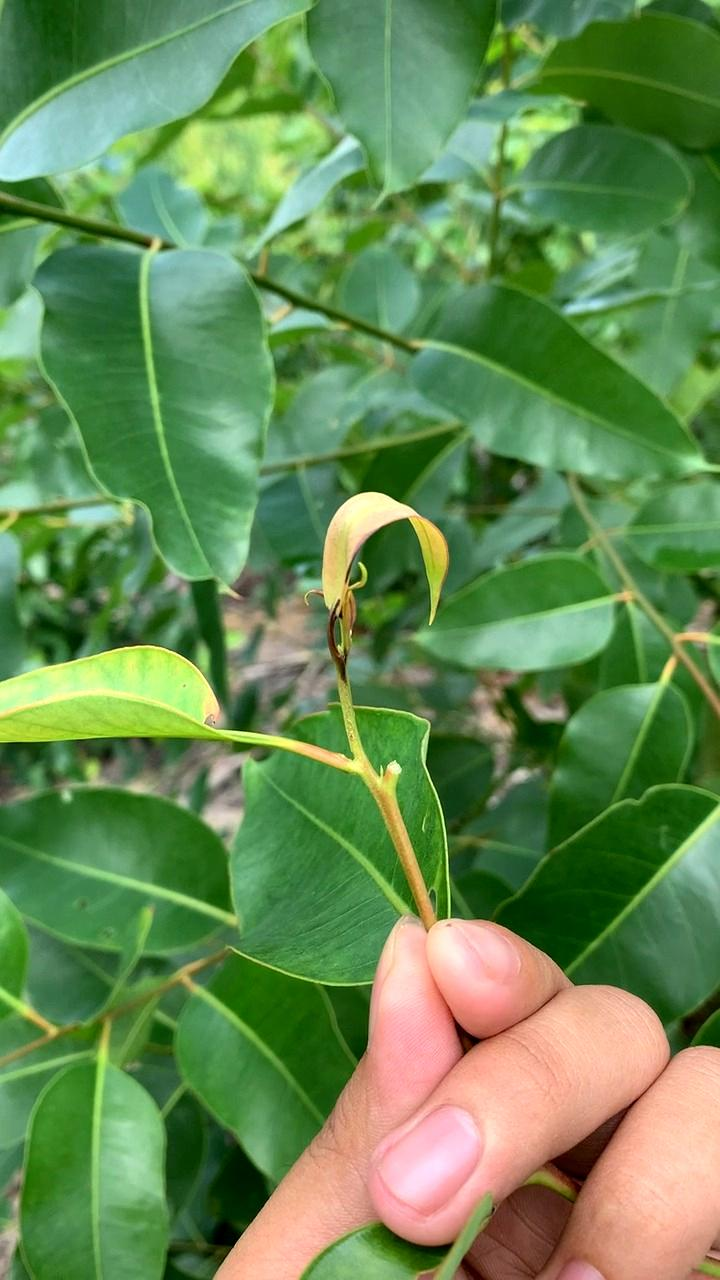Helopeltis-Withered Sprout: (301, 468, 457, 642)
